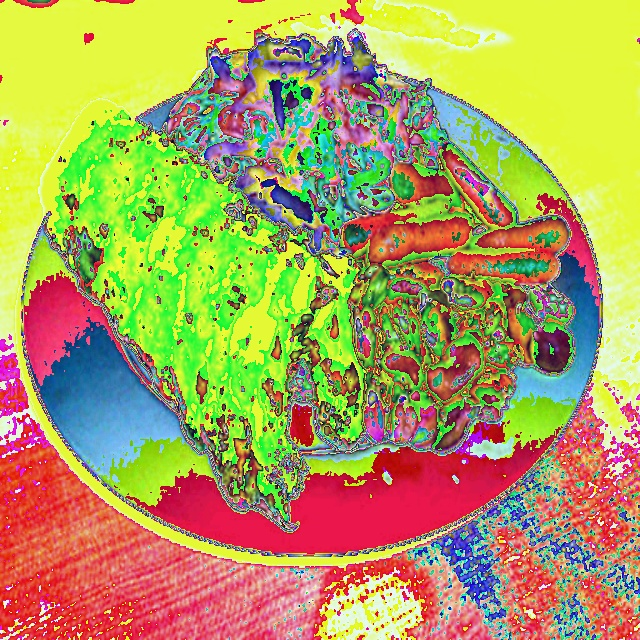background: (43, 29, 574, 529)
